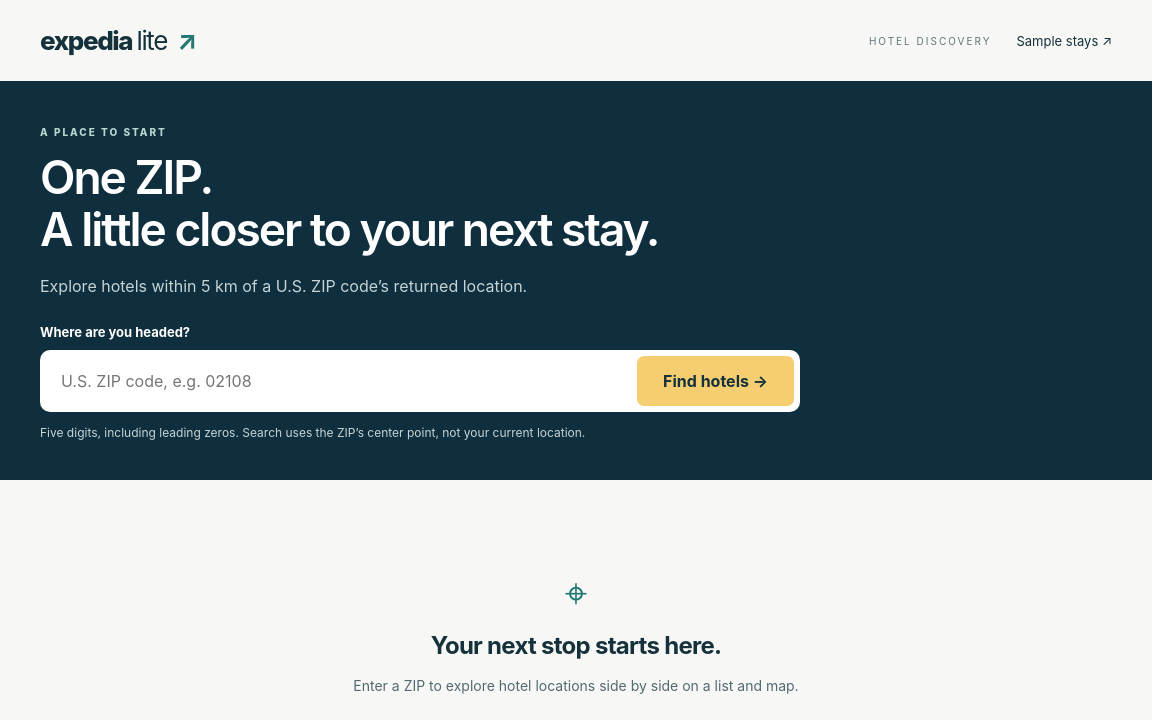
Test: rejects invalid ZIP 1234 locally
The image size is (1152, 720).
Type "1234" into the field labelled "Where are you headed?" at (338, 381), box x1=46 y1=356 x2=629 y2=406
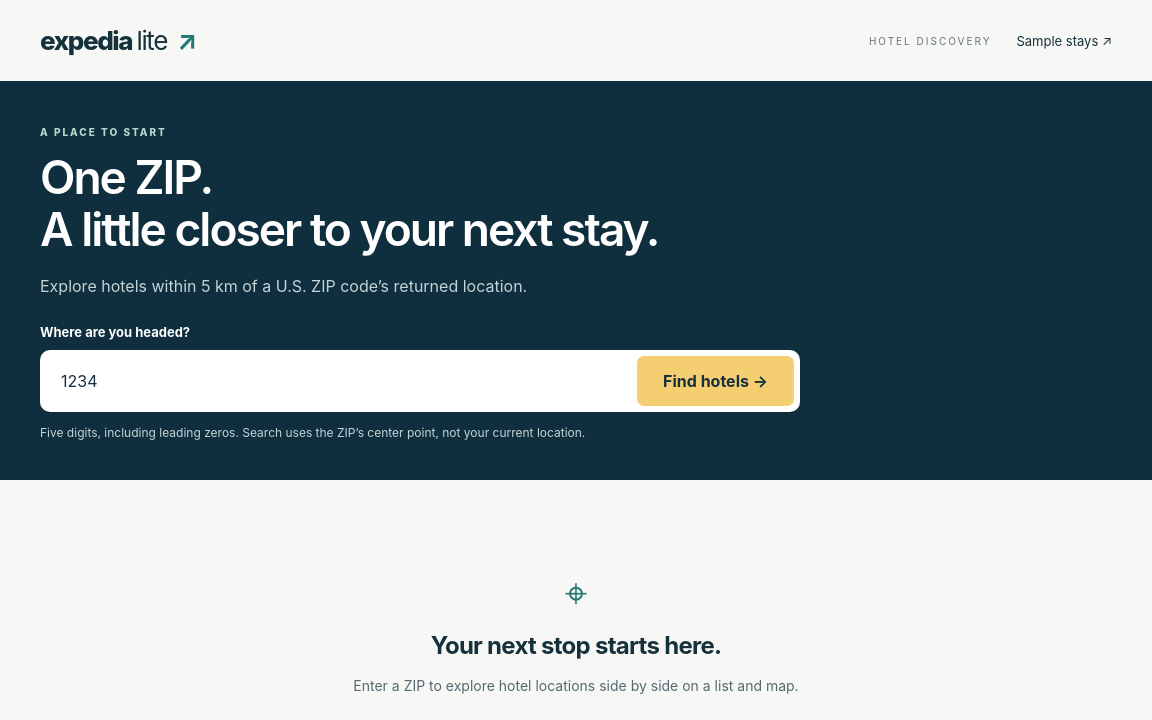
Submit the form, box x1=40 y1=324 x2=800 y2=442
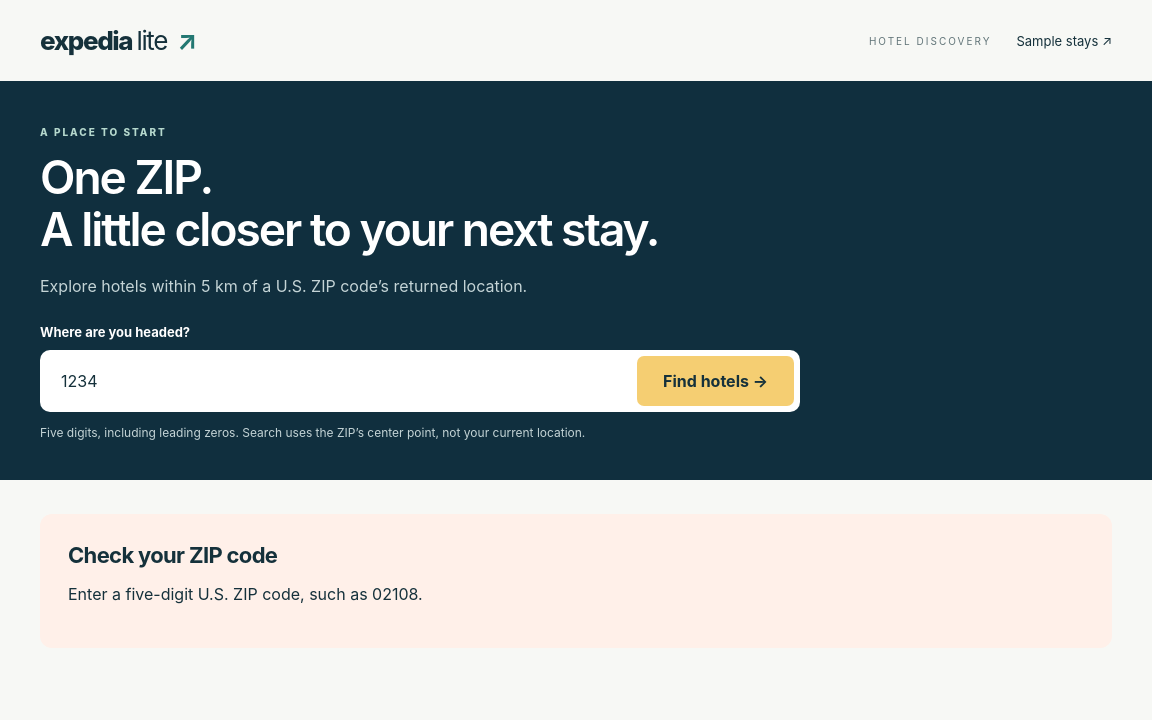
expect the message "Check your ZIP code Enter a five-digit U.S. ZIP code, such as 02108." is shown: met, box x1=40 y1=514 x2=1112 y2=648
